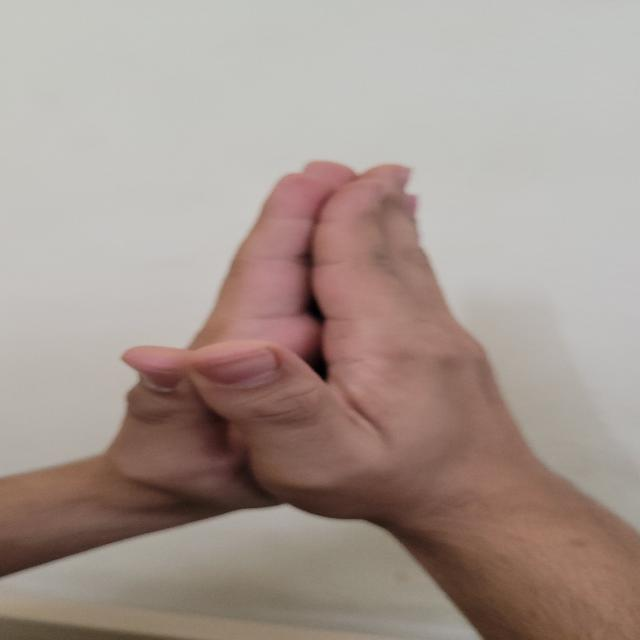Thank You: (36, 134, 567, 586)
